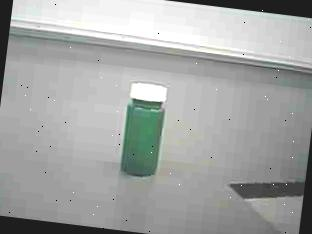Bottle C: (101, 74, 182, 188)
